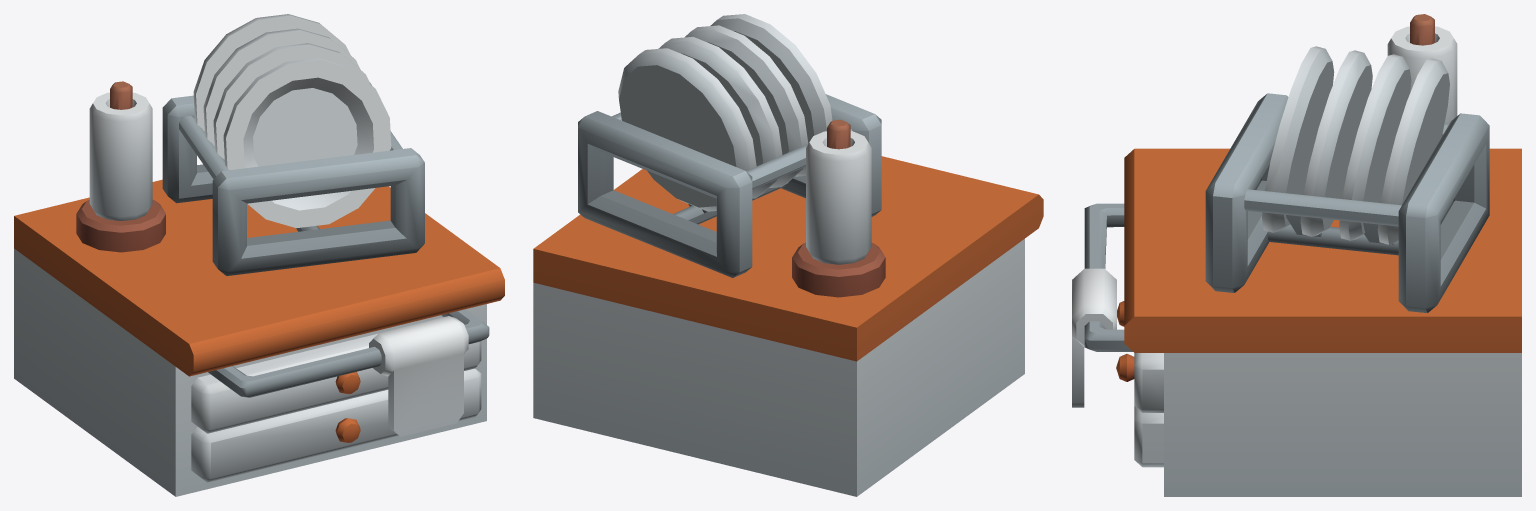
The model's file is kitchencounter_straight_A_decorated.obj.
The picture shows the model from 3 angles, left to right: view 1: azimuth 30°, elevation 25°; view 2: azimuth 150°, elevation 25°; view 3: azimuth 270°, elevation 25°; orthographic projection. The views are drawn at different scales.
Parts seen in each view (by area): view 1: kitchencounter_straight_A_decorated_Cube.008; view 2: kitchencounter_straight_A_decorated_Cube.008; view 3: kitchencounter_straight_A_decorated_Cube.008.
Boxes of the visible parts, x1,y1,x2,y2 form: kitchencounter_straight_A_decorated_Cube.008: (14, 14, 504, 496); kitchencounter_straight_A_decorated_Cube.008: (533, 14, 1043, 496); kitchencounter_straight_A_decorated_Cube.008: (1072, 14, 1521, 496).
Bounding box in the file's own units: 2.01 × 2.1 × 2.26.
Materials: 1 (1 with a texture image).
